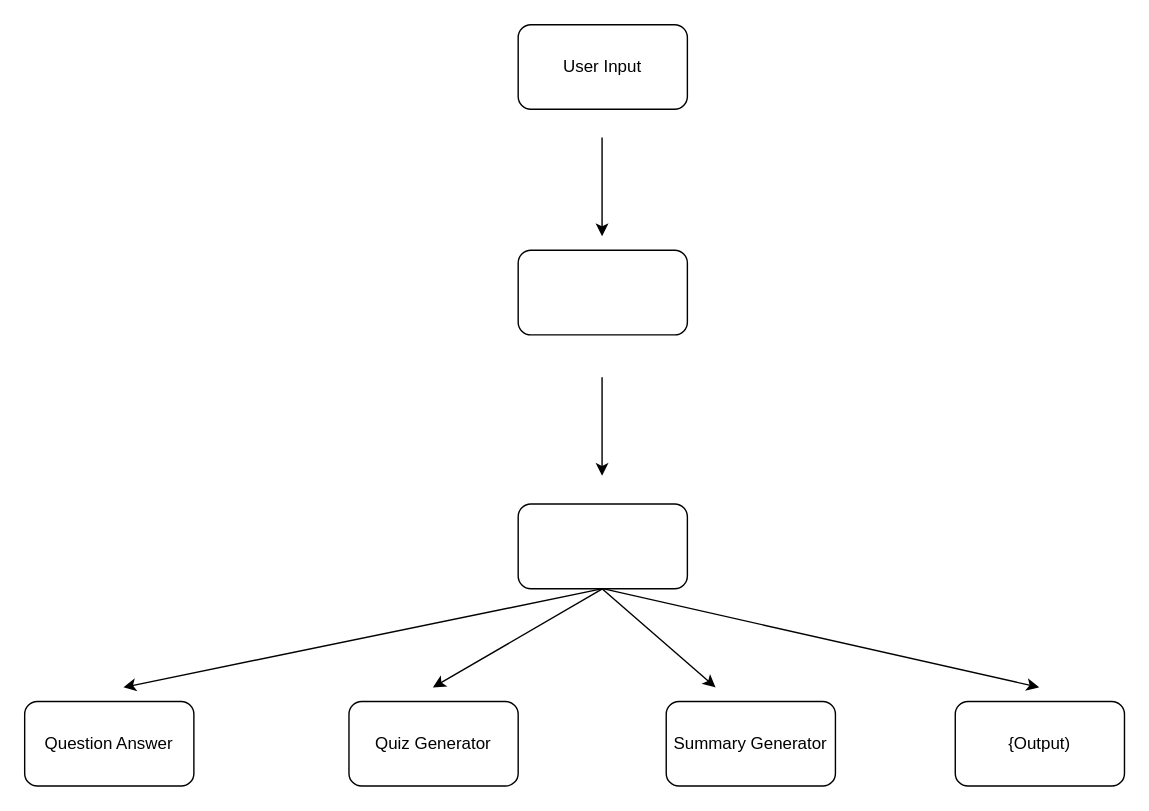
The diagram is 1149 pixels wide and 811 high, and some of its shapes have lost their labels. The box of each missing label's shape, as (x1, y1, x2, y2) in pixels:
Agent Controller: (517, 503, 687, 589)
Intent Classifier: (517, 249, 687, 335)
